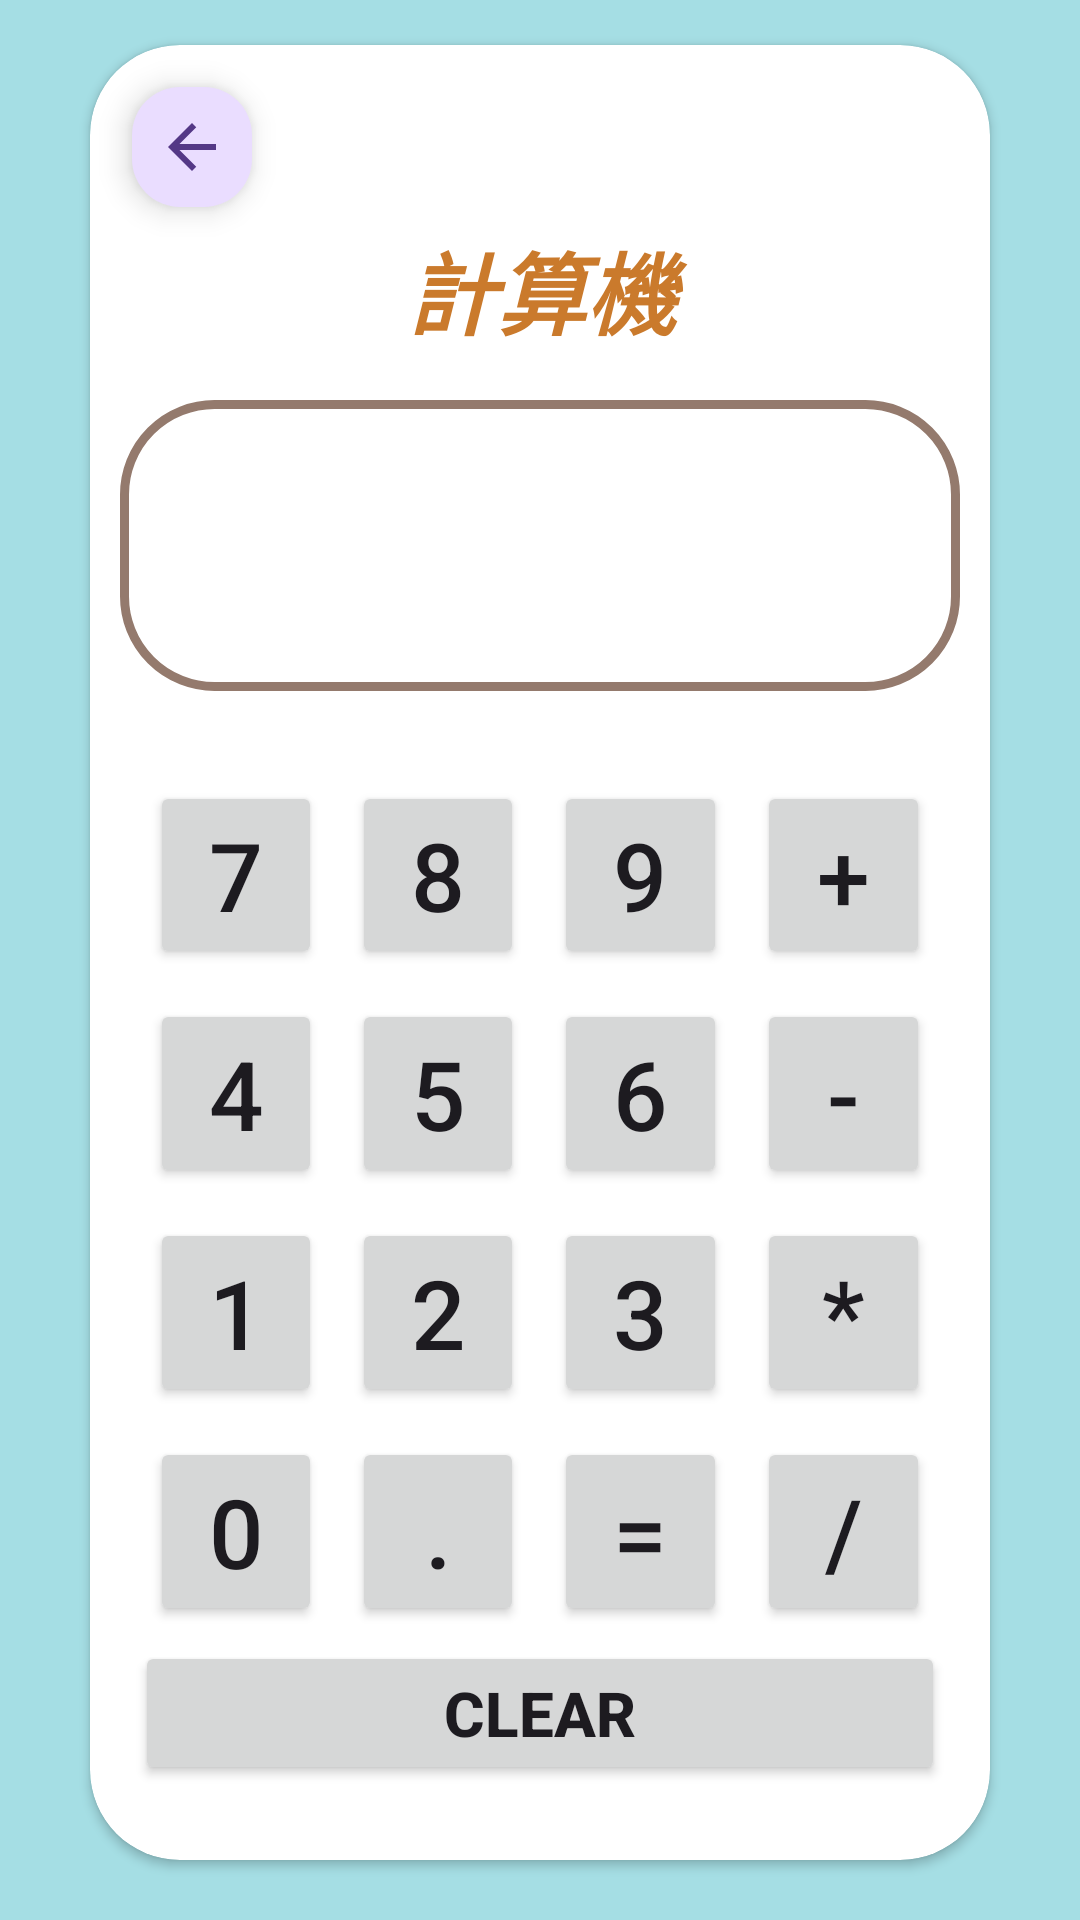

Icon click points for this 1080w x 1920h phone screenshot, format [x,y]:
back: [191,147]
